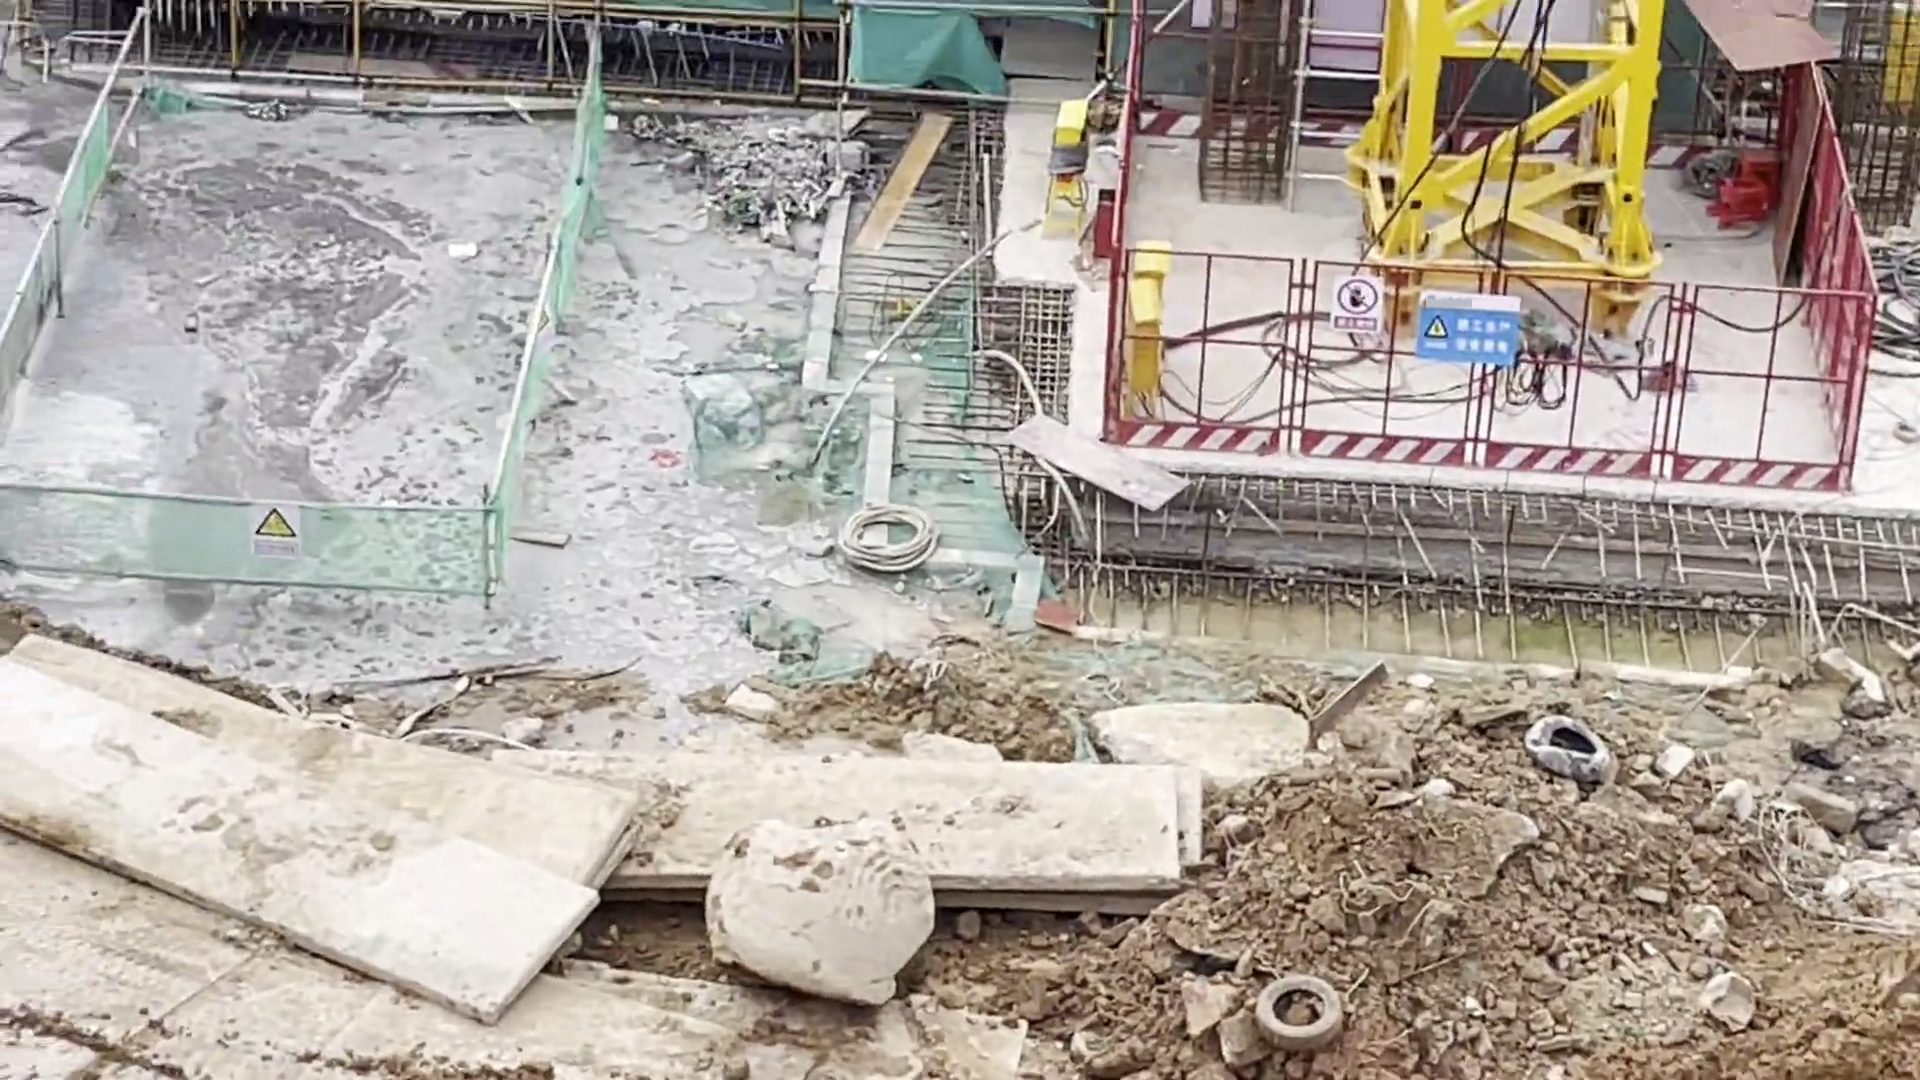ebox: (1126, 237, 1167, 415), (1046, 99, 1087, 219)
fence: (1118, 245, 1857, 485), (1815, 135, 1874, 444)
slogan: (1414, 291, 1516, 361), (1331, 276, 1383, 335), (253, 506, 298, 560)
